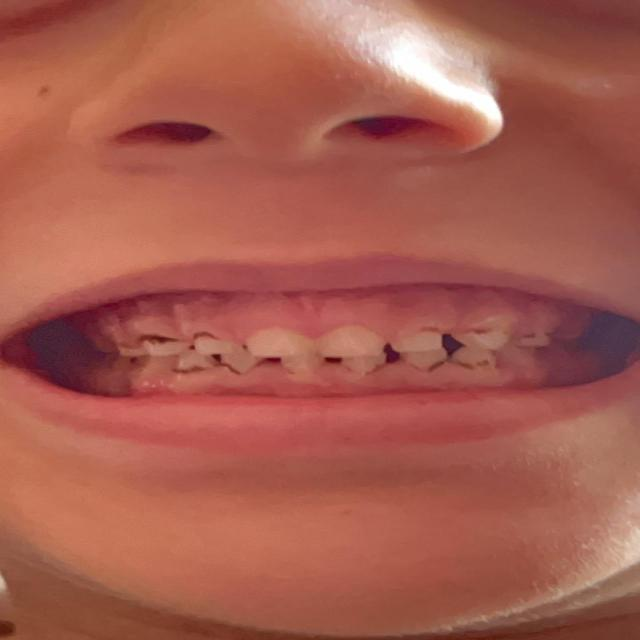tooth: (320, 332, 367, 356), (395, 332, 445, 353), (138, 334, 178, 358), (257, 333, 295, 353), (197, 335, 235, 353), (406, 354, 444, 370), (463, 331, 495, 349), (464, 351, 495, 369), (353, 355, 385, 371), (178, 355, 214, 369), (515, 328, 545, 344), (235, 355, 263, 371), (292, 355, 318, 371)
